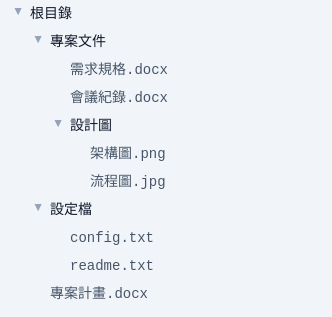
Test: FileTreeView › 點擊目錄可收合，子節點消失
Expected: the text "需求規格.docx" is shown, [70,60,168,80]
Click the text "專案文件": (78, 42) [50,34,106,50]
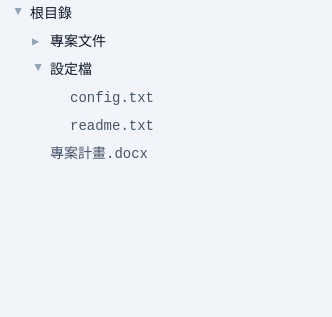
Result: the text "需求規格.docx" is gone
